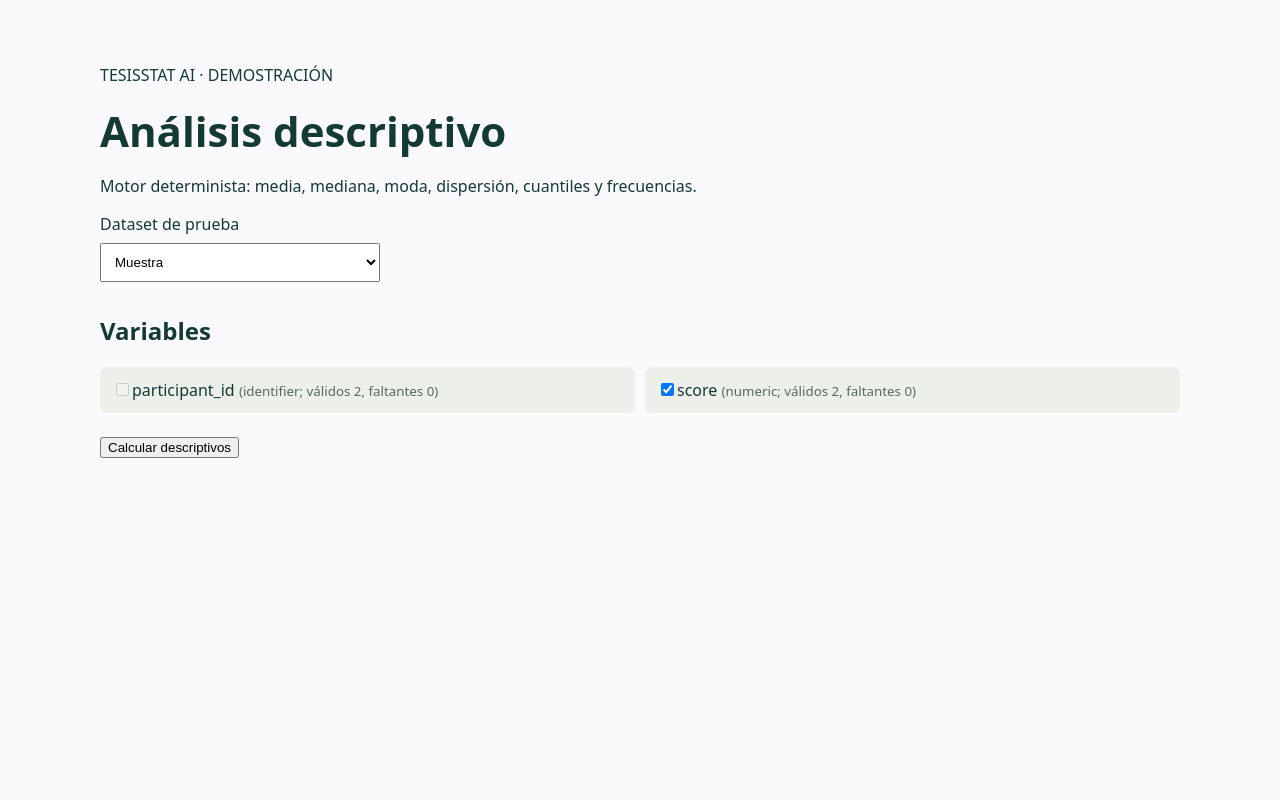
DescriptiveDemo › selects analyzable columns and renders numeric results
Expected: the text "participant_id (identifier; válidos 2, faltantes 0)" is shown, [100,367,635,413]
Expected: the checkbox labelled "participant_id (identifier; válidos 2, faltantes 0)" is disabled, [116,383,129,396]
Click the button "Calcular descriptivos" at (170, 447), box [100,437,239,458]
(page scrolled)
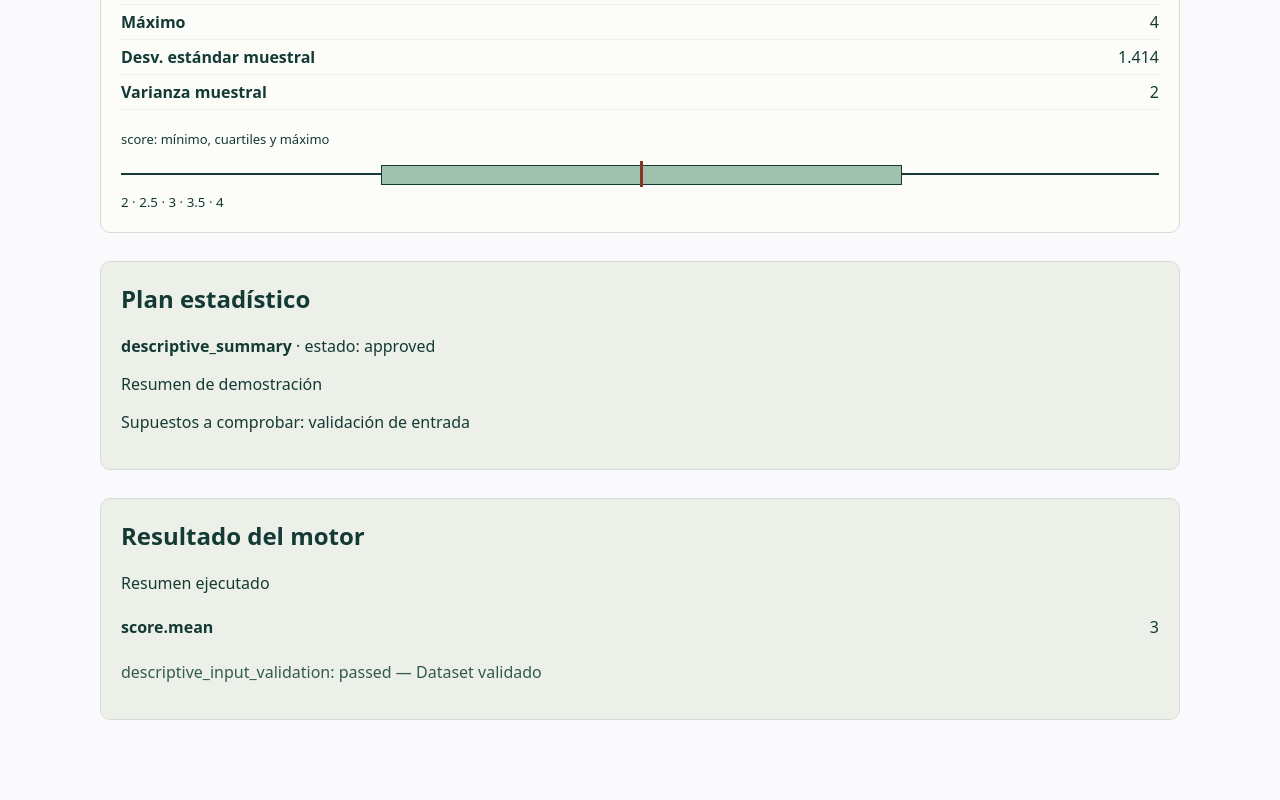
Result: the column heading "Desv. estándar muestral" is shown at [121,40,883,75]
Result: the element named "Resumen de cuantiles de score" is shown at [121,130,1159,212]
Result: the heading "Plan estadístico" is shown at [121,282,310,315]
